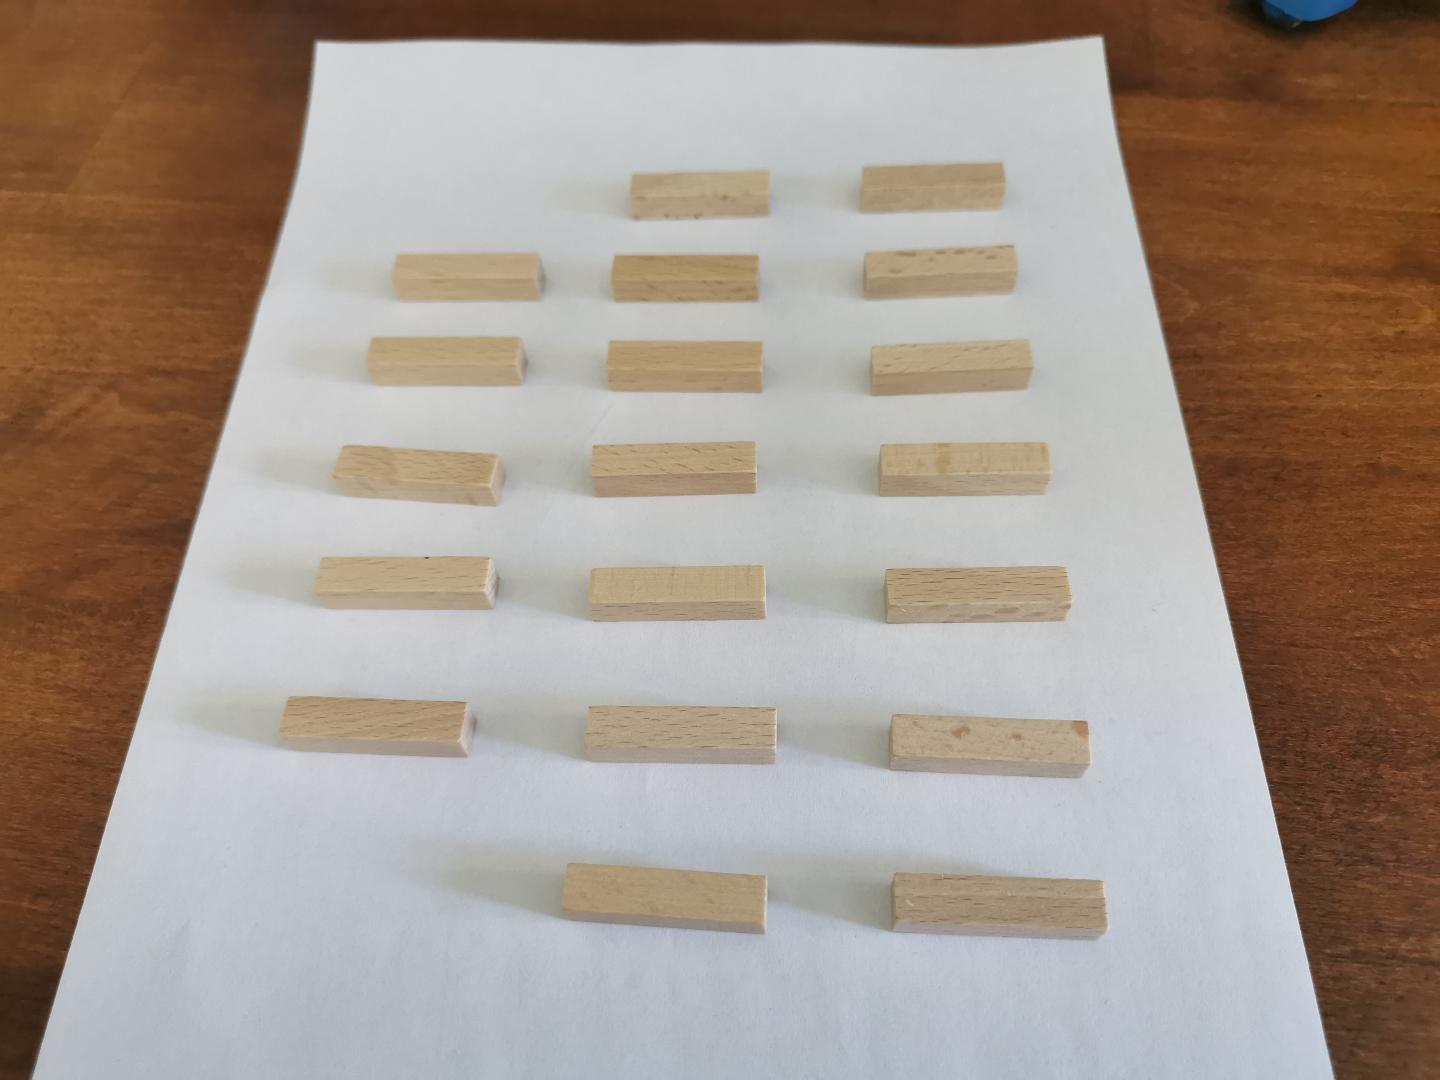jenga: (891, 872, 1108, 939), (562, 863, 768, 934), (889, 715, 1091, 776), (279, 698, 475, 757), (585, 706, 777, 765), (886, 565, 1071, 624), (334, 445, 503, 506), (587, 565, 768, 622), (315, 557, 498, 610), (591, 441, 756, 498), (878, 441, 1052, 495), (872, 340, 1032, 397), (864, 245, 1018, 298), (608, 340, 762, 394), (365, 338, 526, 386), (391, 253, 545, 301), (861, 163, 1005, 213), (630, 171, 771, 219), (610, 256, 760, 301)
